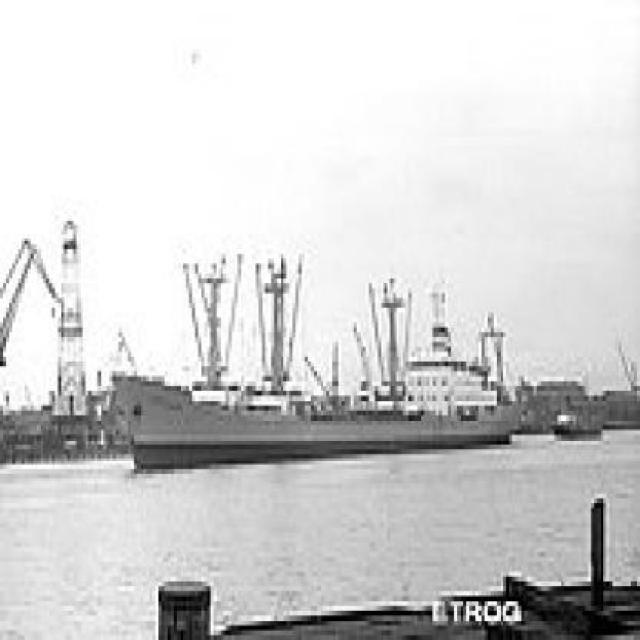container: (98, 250, 535, 475)
